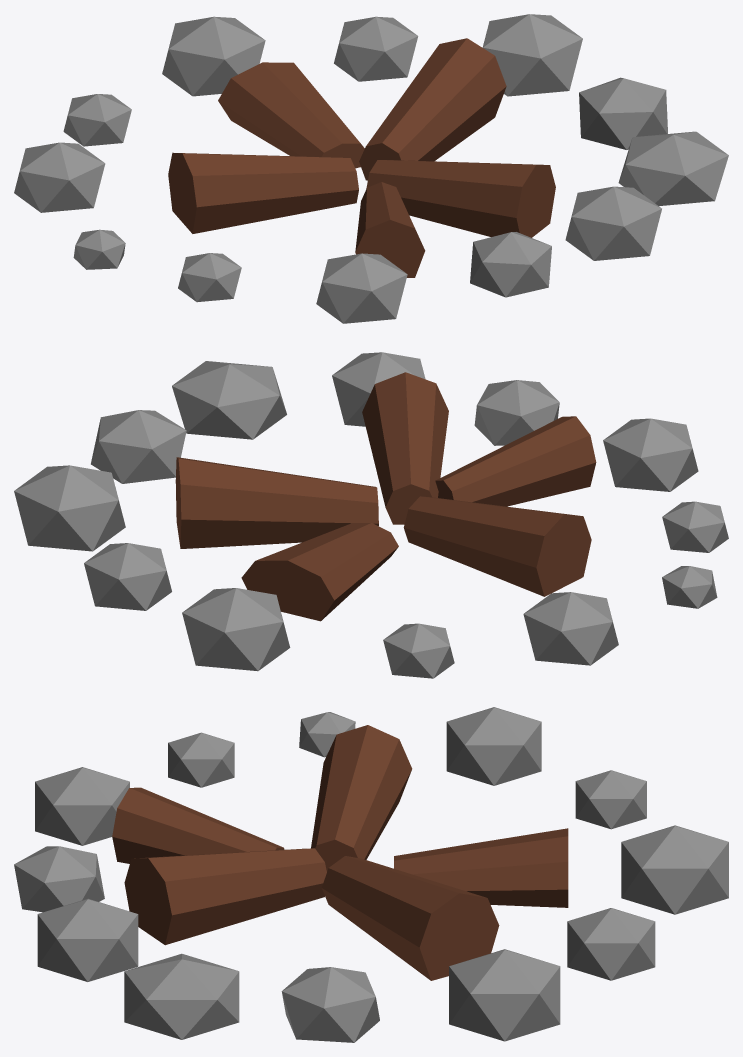
File: Hoguera.fbx
3 renders of one model, top to bottom at view 1: azimuth 30°, elevation 25°; view 2: azimuth 150°, elevation 25°; view 3: azimuth 270°, elevation 25°, orthographic. The views are drawn at different scales.
Parts seen in each view (by area): view 1: Icosphere.003; view 2: Icosphere.003; view 3: Icosphere.003.
Boxes of the visible parts, <box> form: Icosphere.003: <box>14,14,728,323</box>; Icosphere.003: <box>14,352,728,678</box>; Icosphere.003: <box>14,707,728,1042</box>.
Bounding box in the file's own units: 13.21 × 1.59 × 12.79.
